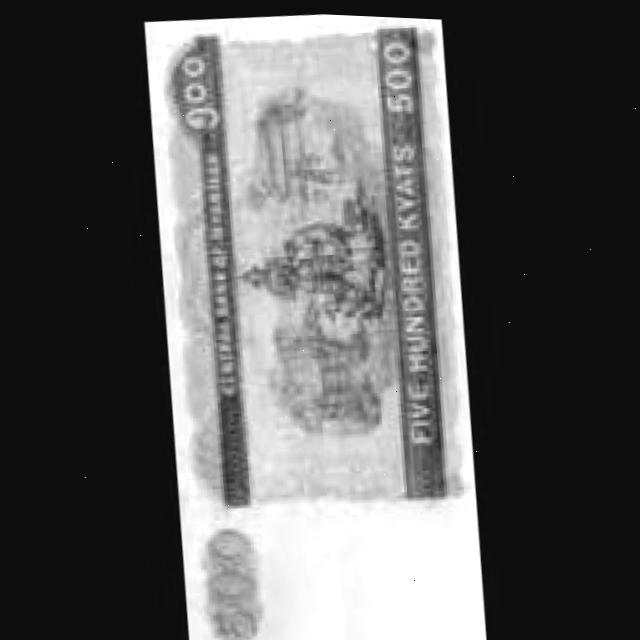banknote: (134, 5, 495, 640)
